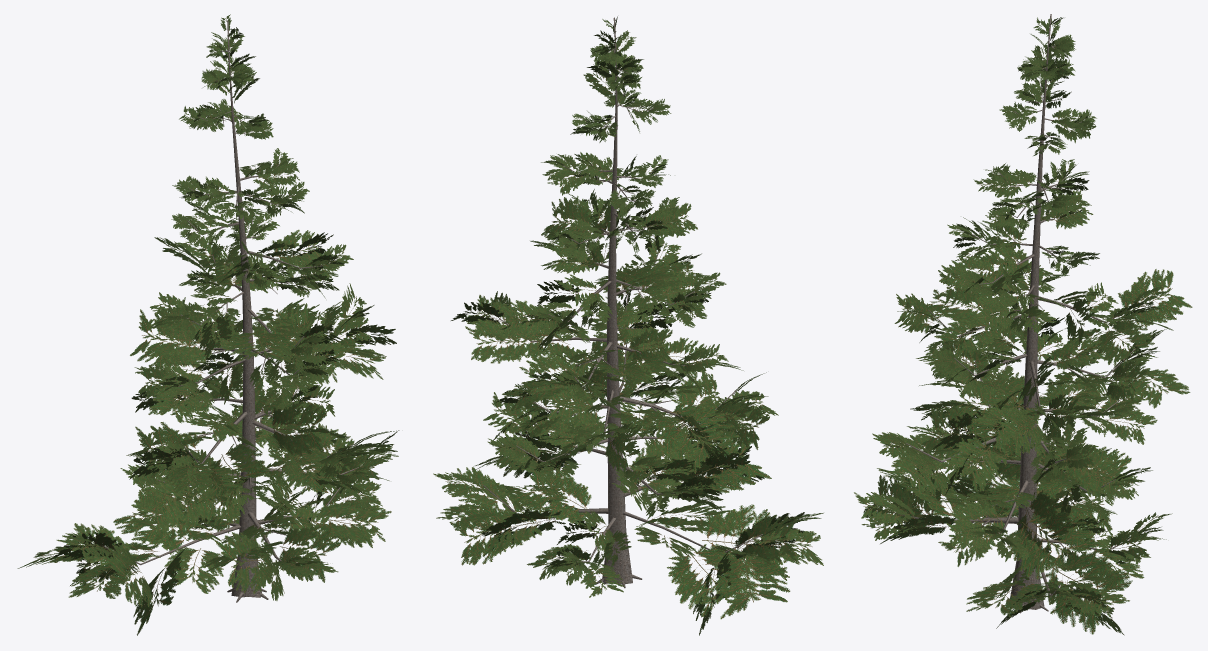
Rendered from NorwaySpruce.fbx.
3 renders of one model, left to right at view 1: azimuth 30°, elevation 25°; view 2: azimuth 150°, elevation 25°; view 3: azimuth 270°, elevation 25°, orthographic. The views are drawn at different scales.
Visible parts, largest first — view 1: Foliage, Bark; view 2: Foliage, Bark; view 3: Foliage, Bark.
Boxes of the visible parts, <box> form: Foliage: <box>17,14,399,635</box>; Bark: <box>102,20,361,602</box>; Foliage: <box>433,16,823,635</box>; Bark: <box>483,17,762,588</box>; Foliage: <box>854,17,1192,635</box>; Bark: <box>898,14,1135,613</box>.
Bounding box in the file's own units: 13.77 × 21.1 × 11.06.
